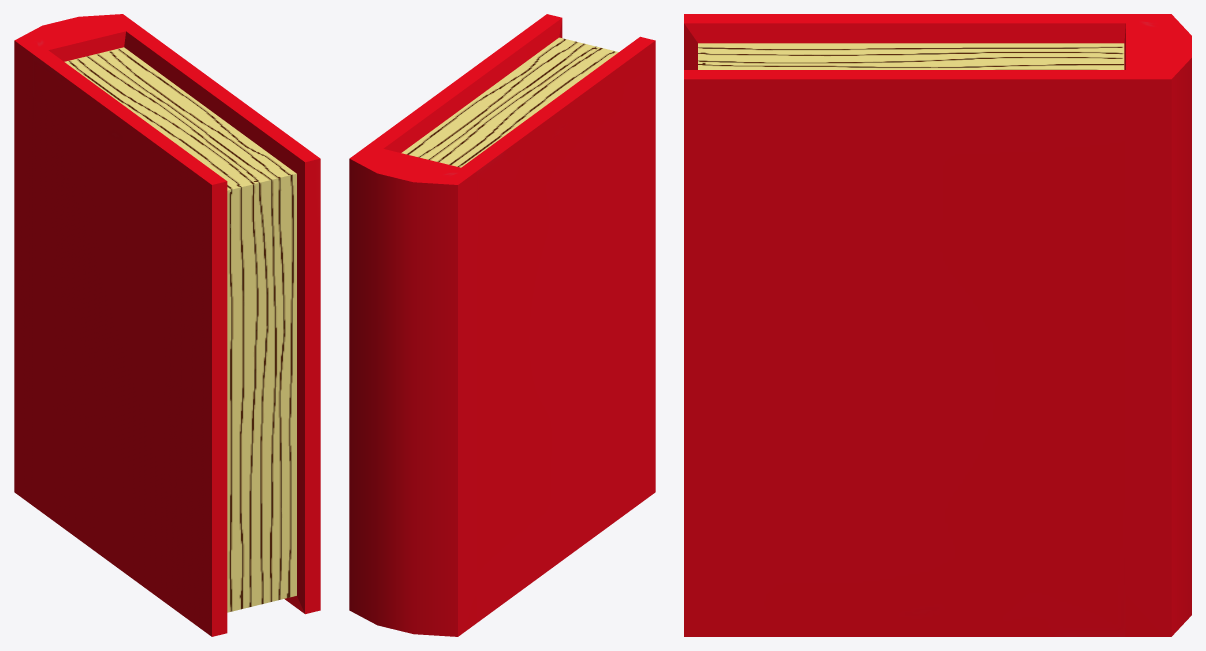
The model's file is BookRed.fbx.
3 views of the same model, side by side, from view 1: azimuth 30°, elevation 25°; view 2: azimuth 150°, elevation 25°; view 3: azimuth 270°, elevation 25° (orthographic). The views are drawn at different scales.
Visible parts, largest first — view 1: BookRed; view 2: BookRed; view 3: BookRed.
Boxes of the visible parts, left/top/right/bottom form: BookRed: left=14, top=14, right=320, bottom=636; BookRed: left=349, top=14, right=655, bottom=636; BookRed: left=684, top=14, right=1191, bottom=636.
Size of the model in its own units: 8.15 by 32.41 by 26.75.
1 material, 1 textured.
